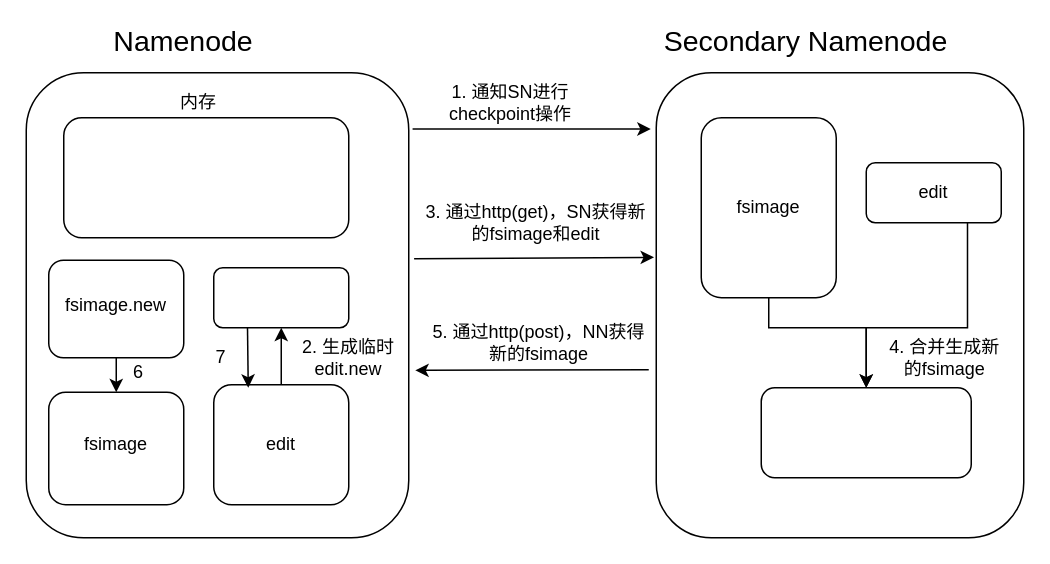
This 1050x564 diagram has some shape labels left out. The centre of each missing label's shape, as x and y in pixels:
"edit.new" belongs at point 280,297.
"fsimage.checkpoint" belongs at point 865,432.
"meta.data" belongs at point 205,177.
